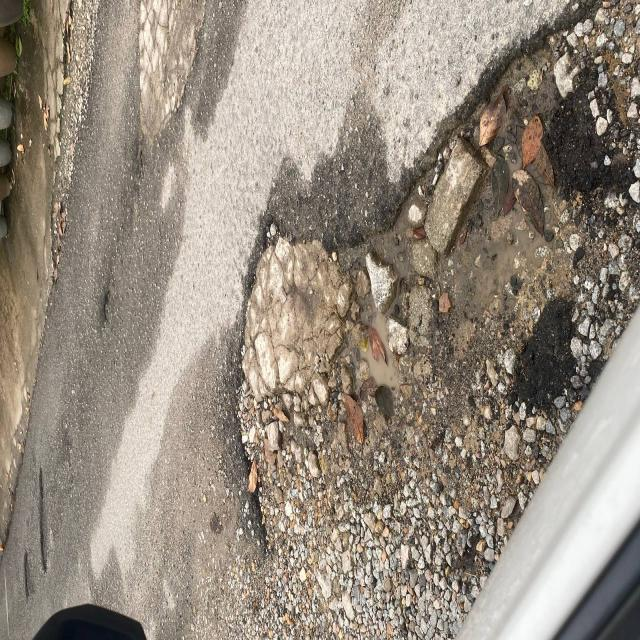Pothole: (173, 0, 550, 478)
